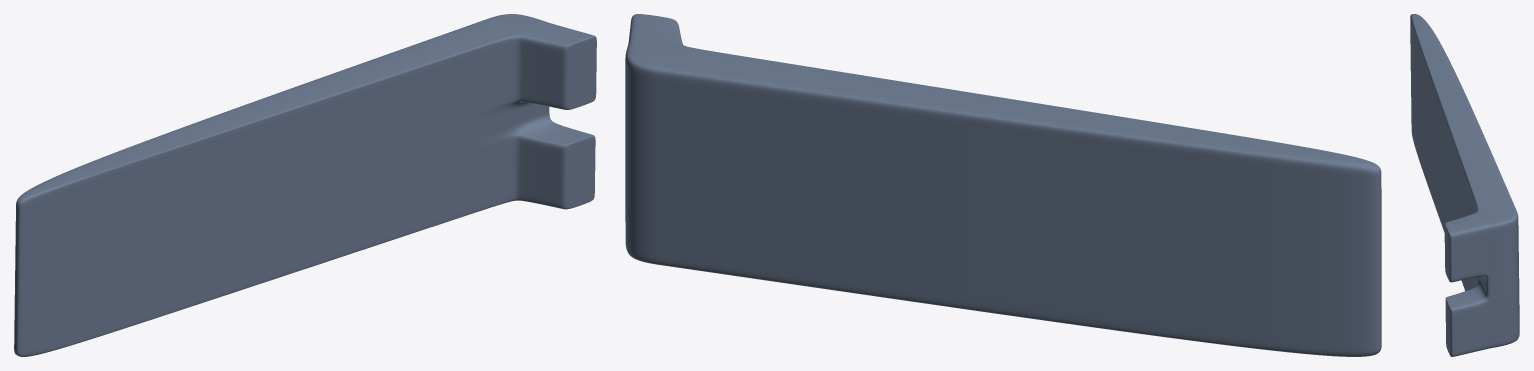
The picture shows the model from 3 angles, left to right: view 1: azimuth 30°, elevation 25°; view 2: azimuth 150°, elevation 25°; view 3: azimuth 270°, elevation 25°; orthographic projection. The views are drawn at different scales.
Visible parts, largest first — view 1: Cube.028; view 2: Cube.028; view 3: Cube.028.
Part boxes in pixels (bbox=[...]): Cube.028: bbox=[14, 14, 596, 356]; Cube.028: bbox=[625, 14, 1381, 356]; Cube.028: bbox=[1410, 14, 1519, 356].
Size of the model in its own units: 0.0347 by 0.00926 by 0.00723.
